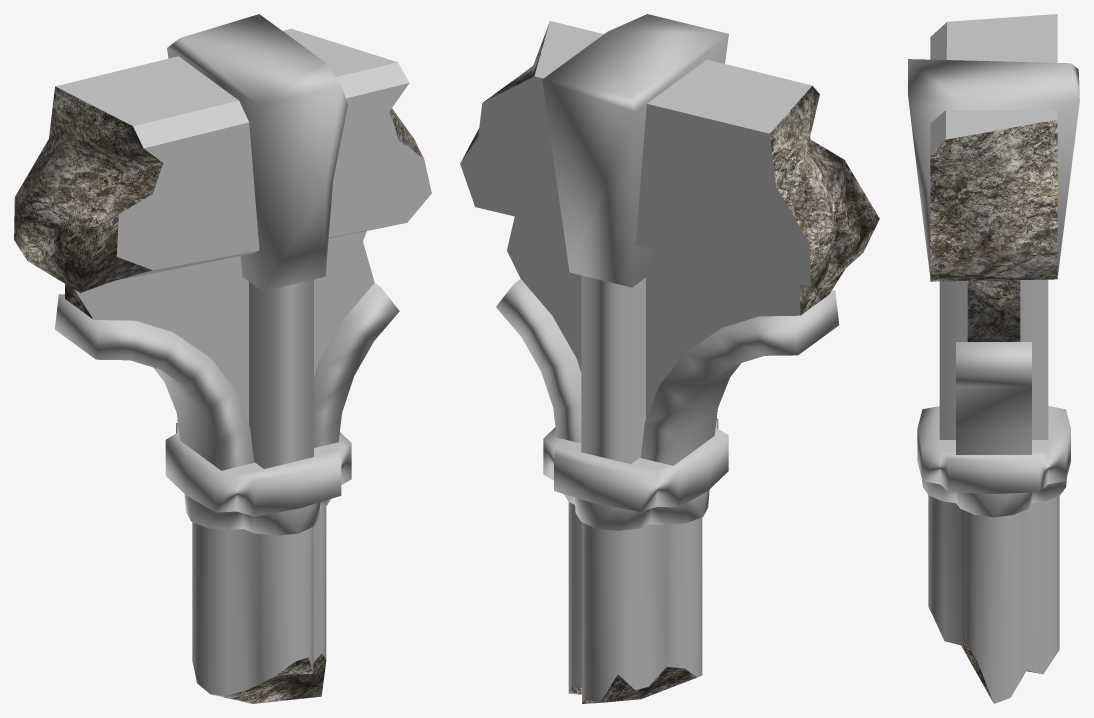
The model's file is Ruins_15.fbx.
The picture shows the model from 3 angles, left to right: view 1: azimuth 30°, elevation 25°; view 2: azimuth 150°, elevation 25°; view 3: azimuth 270°, elevation 25°; orthographic projection. The views are drawn at different scales.
Parts seen in each view (by area): view 1: polySurface2938; view 2: polySurface2938; view 3: polySurface2938.
Part boxes in pixels (x1=…): polySurface2938: x1=14, y1=14, x2=431, y2=703; polySurface2938: x1=460, y1=14, x2=879, y2=703; polySurface2938: x1=908, y1=14, x2=1079, y2=703.
Size of the model in its own units: 2.44 by 4.1 by 1.07.
